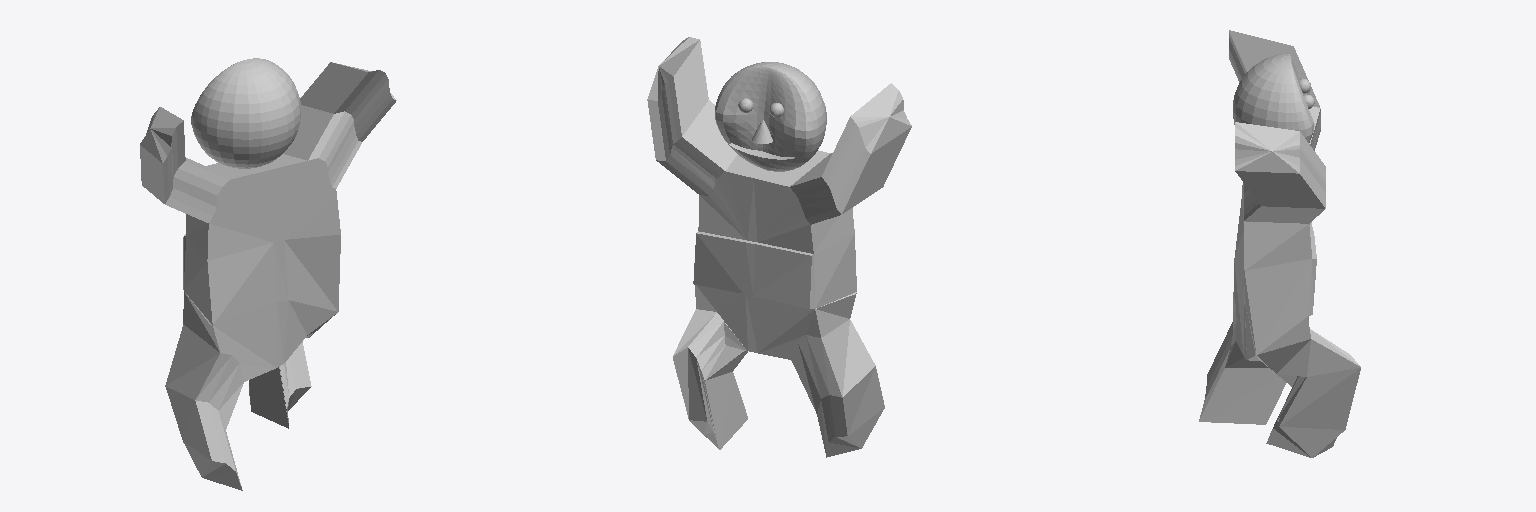
Rendered from man_000008.obj.
3 renders of one model, left to right at view 1: azimuth 30°, elevation 25°; view 2: azimuth 150°, elevation 25°; view 3: azimuth 270°, elevation 25°, orthographic.
Visible parts, largest first — view 1: Cube; view 2: Cube; view 3: Cube.
Boxes of the visible parts, <box> form: Cube: <box>140,58,396,490</box>; Cube: <box>647,37,911,457</box>; Cube: <box>1199,30,1360,457</box>.
Bounding box in the file's own units: 79.08 × 124 × 47.